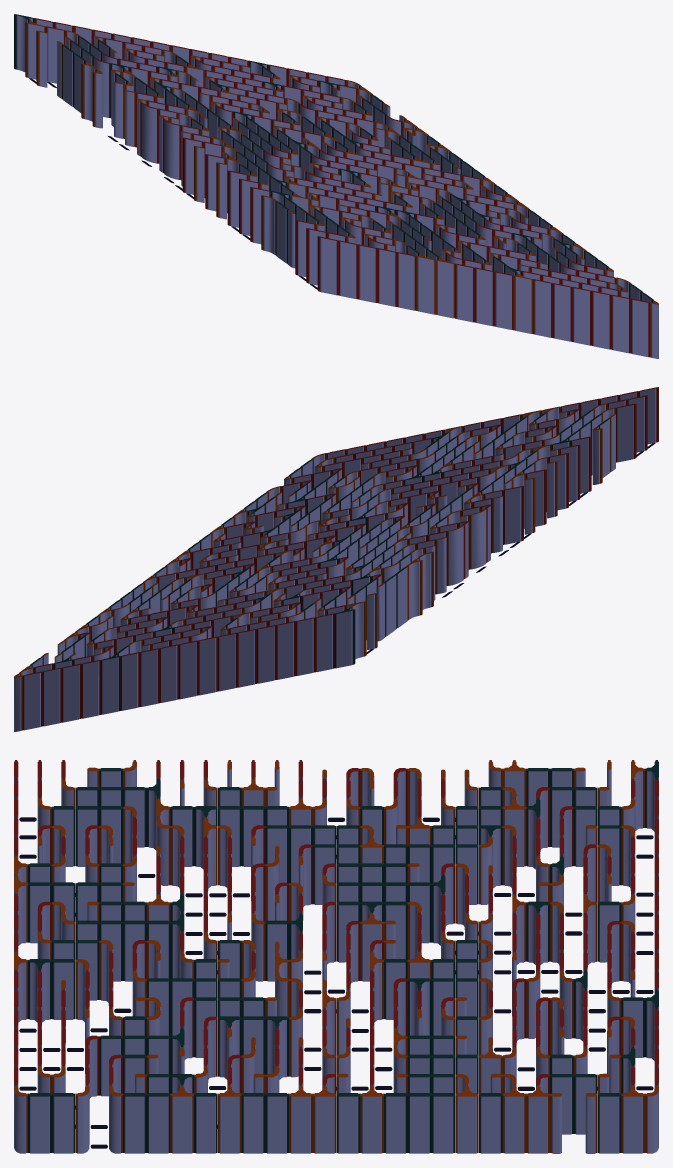
Rendered from W_M_maze_InWall_Side_B_Collider.fbx.
The picture shows the model from 3 angles, top to bottom: view 1: azimuth 30°, elevation 25°; view 2: azimuth 150°, elevation 25°; view 3: azimuth 270°, elevation 25°; orthographic projection. The views are drawn at different scales.
Visible parts, largest first — view 1: W_M_maze_InWall_Side_B_Collider; view 2: W_M_maze_InWall_Side_B_Collider; view 3: W_M_maze_InWall_Side_B_Collider.
Part boxes in pixels (box(x1,y1,x2,y2)): W_M_maze_InWall_Side_B_Collider: box(14, 14, 658, 358); W_M_maze_InWall_Side_B_Collider: box(14, 387, 658, 731); W_M_maze_InWall_Side_B_Collider: box(14, 760, 658, 1153).
Size of the model in its own units: 26.4 by 15.17 by 40.77.
